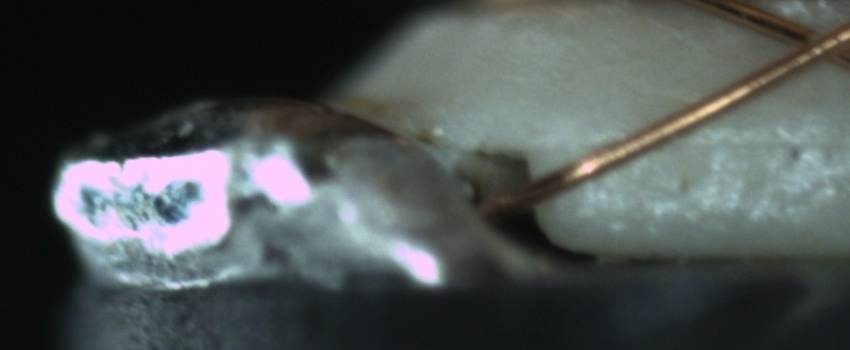CL: (772, 11, 848, 74)
DL: (674, 111, 849, 171)
